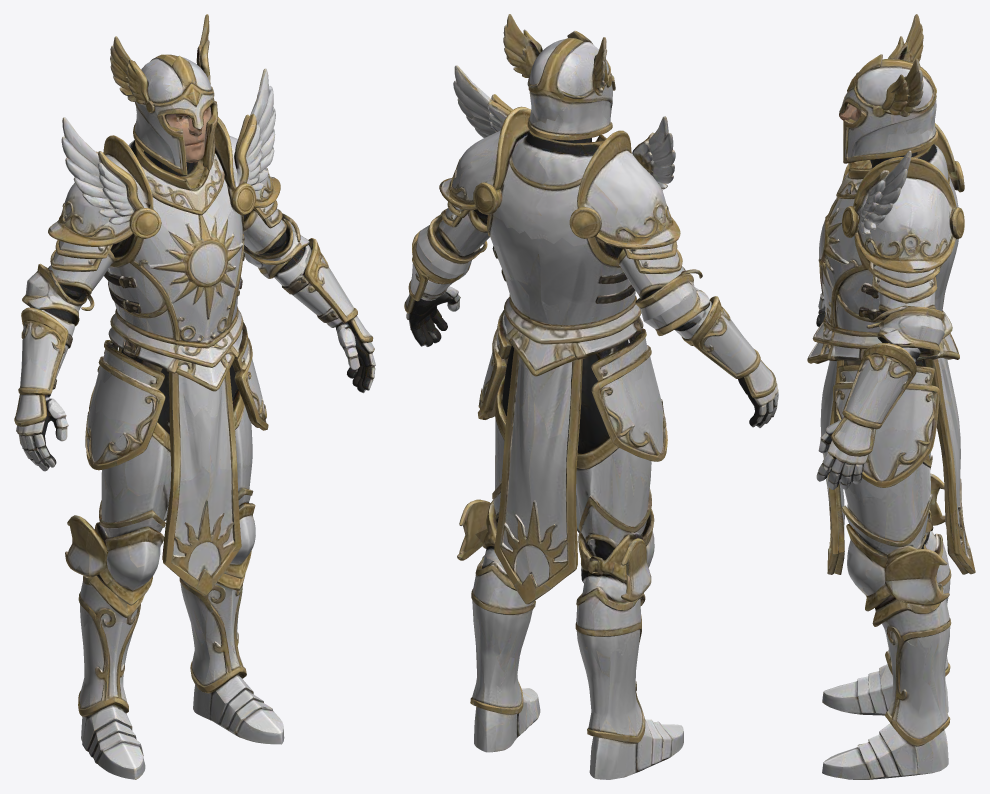
Rendered from paladin.glb.
3 renders of one model, left to right at view 1: azimuth 30°, elevation 25°; view 2: azimuth 150°, elevation 25°; view 3: azimuth 270°, elevation 25°, orthographic. The views are drawn at different scales.
Parts seen in each view (by area): view 1: Mesh_0; view 2: Mesh_0; view 3: Mesh_0.
Part boxes in pixels (x1,y1,x2,y2): Mesh_0: (14, 14, 375, 779); Mesh_0: (404, 14, 778, 779); Mesh_0: (807, 14, 975, 779).
Size of the model in its own units: 1 by 1.9 by 0.4135.
Materials: 1 (1 with a texture image).
